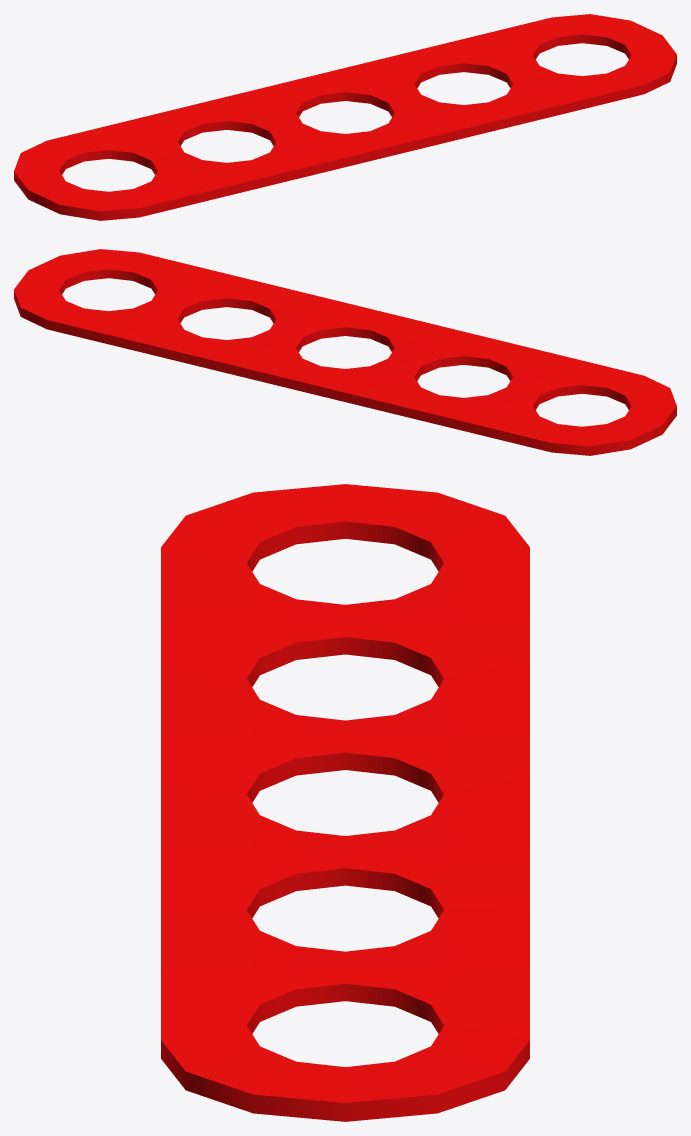
File: FiveLongRed.fbx
The picture shows the model from 3 angles, top to bottom: view 1: azimuth 30°, elevation 25°; view 2: azimuth 150°, elevation 25°; view 3: azimuth 270°, elevation 25°; orthographic projection. The views are drawn at different scales.
Parts seen in each view (by area): view 1: Blue5; view 2: Blue5; view 3: Blue5.
Boxes of the visible parts, <box> form: Blue5: <box>14,14,676,220</box>; Blue5: <box>14,249,676,455</box>; Blue5: <box>161,484,529,1121</box>.
Bounding box in the file's own units: 13.69 × 0.1942 × 3.45.
